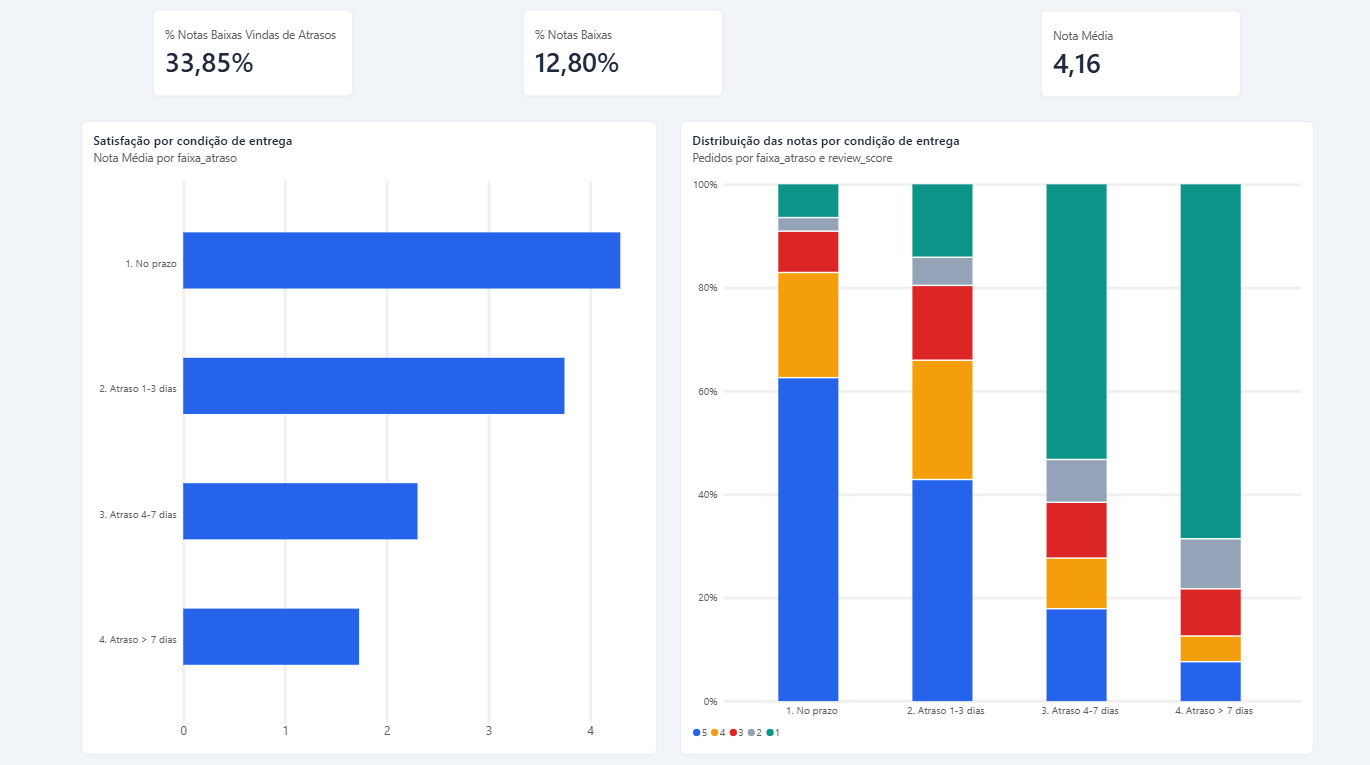

This screenshot's page, from the dashboard's own definition file:
{"tool":"powerbi","page":{"name":"SATISFAÇÃO","canvas":[1920,1080],"ordinal":2},"visuals":[{"type":"cardVisual","fields":{"Data":["_Medidas.Nota Média"]},"box":[1460.4,22.6,280.3,122],"z":0},{"type":"cardVisual","fields":{"Data":["_Medidas.% Notas Baixas Vindas de Atrasos"]},"box":[226.1,21.3,280.3,122],"z":1000},{"type":"cardVisual","fields":{"Data":["_Medidas.% Notas Baixas"]},"box":[740.8,21.3,280.3,122],"z":2000},{"type":"barChart","title":"Satisfação por condição de entrega","fields":{"Category":["fato_pedidos.faixa_atraso"],"Y":["_Medidas.Nota Média"]},"box":[128,176,800,880],"z":3000},{"type":"hundredPercentStackedColumnChart","title":"Distribuição das notas por condição de entrega","fields":{"Category":["fato_pedidos.faixa_atraso"],"Series":["fato_pedidos.review_score"],"Y":["_Medidas.Pedidos"]},"box":[960,176,880,880],"z":4000}]}

Visuals, with their boxes in screenshot pixels (x1, y1, x2, y2), scaled from the page's 1920x1080 canvas onto the 1370x765 screenshot:
cardVisual - _Medidas.Nota Média: bbox=(1042, 16, 1242, 102)
cardVisual - _Medidas.% Notas Baixas Vindas de Atrasos: bbox=(161, 15, 361, 102)
cardVisual - _Medidas.% Notas Baixas: bbox=(529, 15, 729, 102)
"Satisfação por condição de entrega" barChart: bbox=(91, 125, 662, 748)
"Distribuição das notas por condição de entrega" hundredPercentStackedColumnChart: bbox=(685, 125, 1313, 748)
